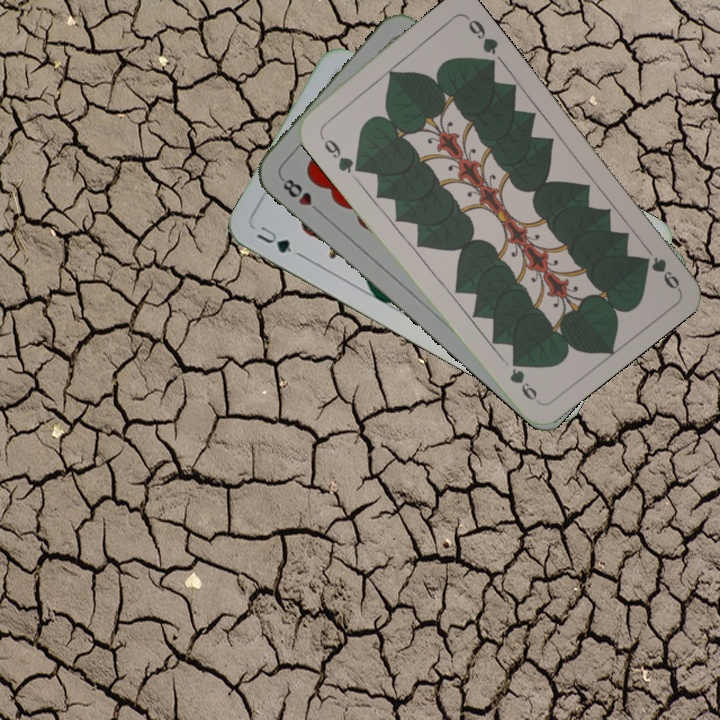G9: (315, 129, 361, 176), (637, 252, 682, 292)
GU: (252, 221, 295, 256)
H8: (276, 173, 325, 217)
